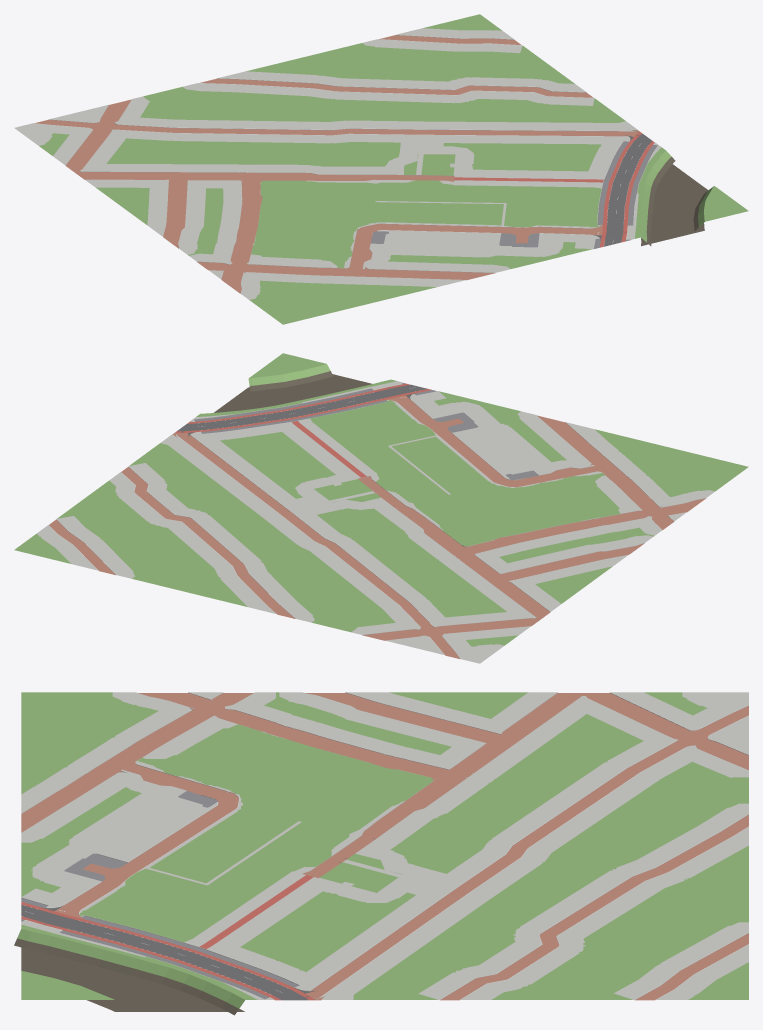
File: ground_7_7.glb
3 views of the same model, one above another, from view 1: azimuth 30°, elevation 25°; view 2: azimuth 150°, elevation 25°; view 3: azimuth 270°, elevation 25° (orthographic). The views are drawn at different scales.
Parts seen in each view (by area): view 1: ground_7_7; view 2: ground_7_7; view 3: ground_7_7.
Boxes of the visible parts, x1,y1,x2,y2 form: ground_7_7: [14, 14, 748, 324]; ground_7_7: [14, 353, 748, 663]; ground_7_7: [14, 692, 748, 1015].
Bounding box in the file's own units: 202 × 3.62 × 202.
